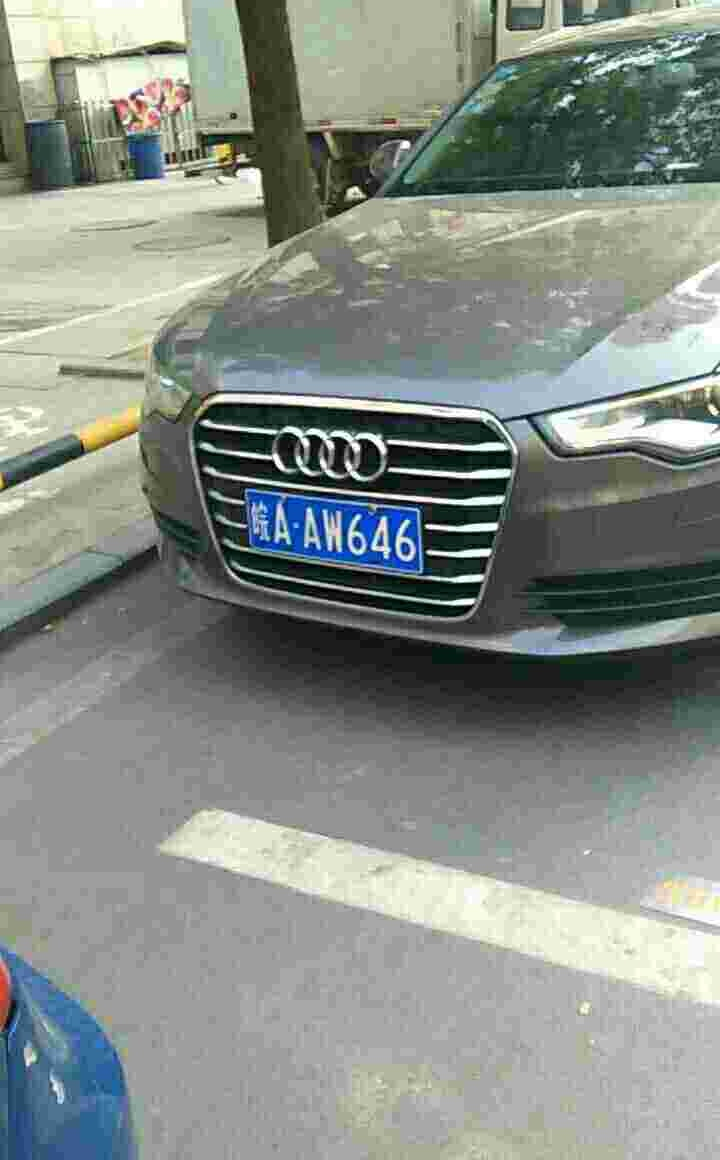license_plate: (235, 484, 431, 580)
